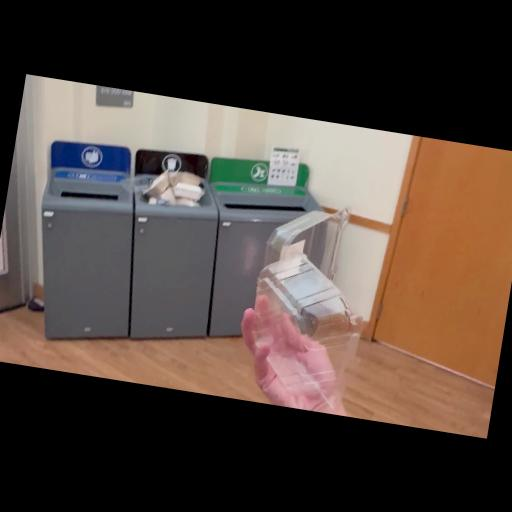small_plastic_container: (236, 191, 380, 416)
